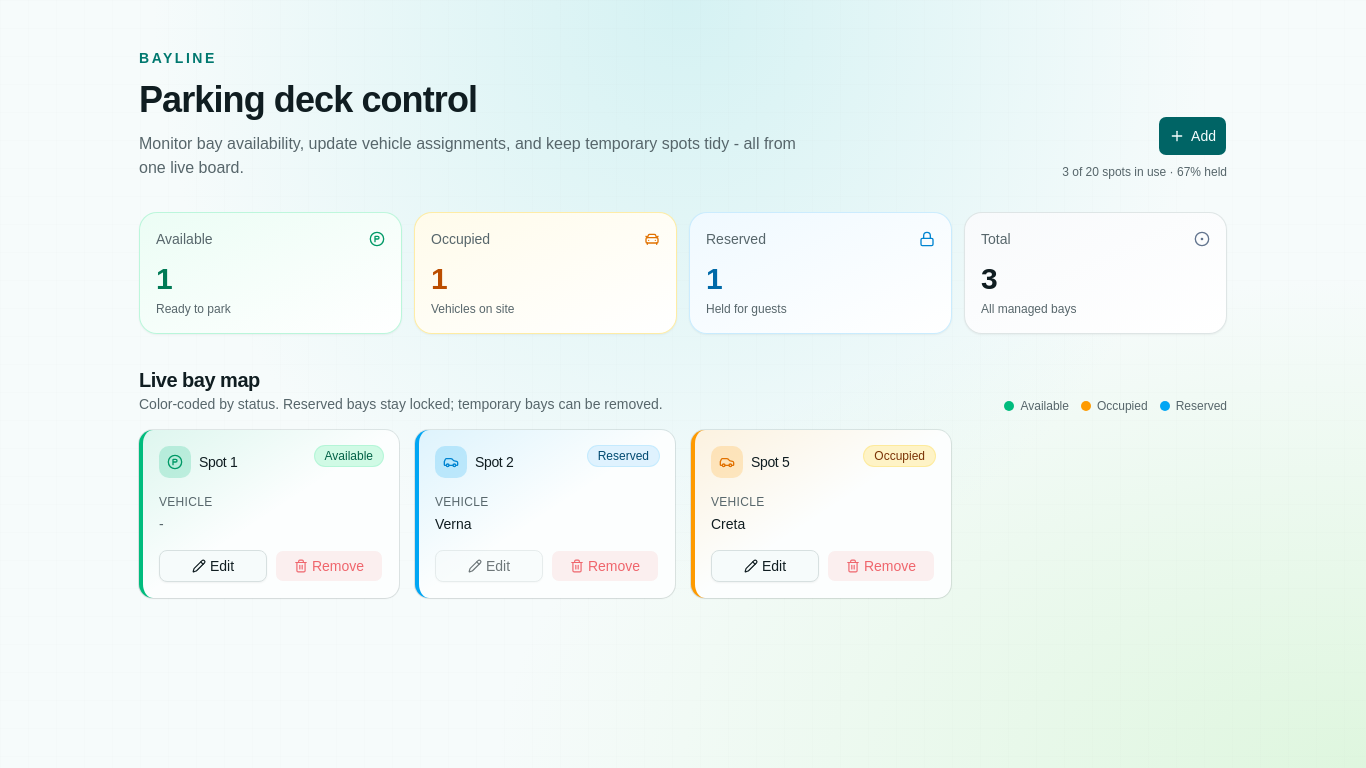
it: App › adds a temporary available spot
The image size is (1366, 768).
Click the button "Add".
click(1193, 136)  # box left=1158, top=116, right=1227, bottom=156
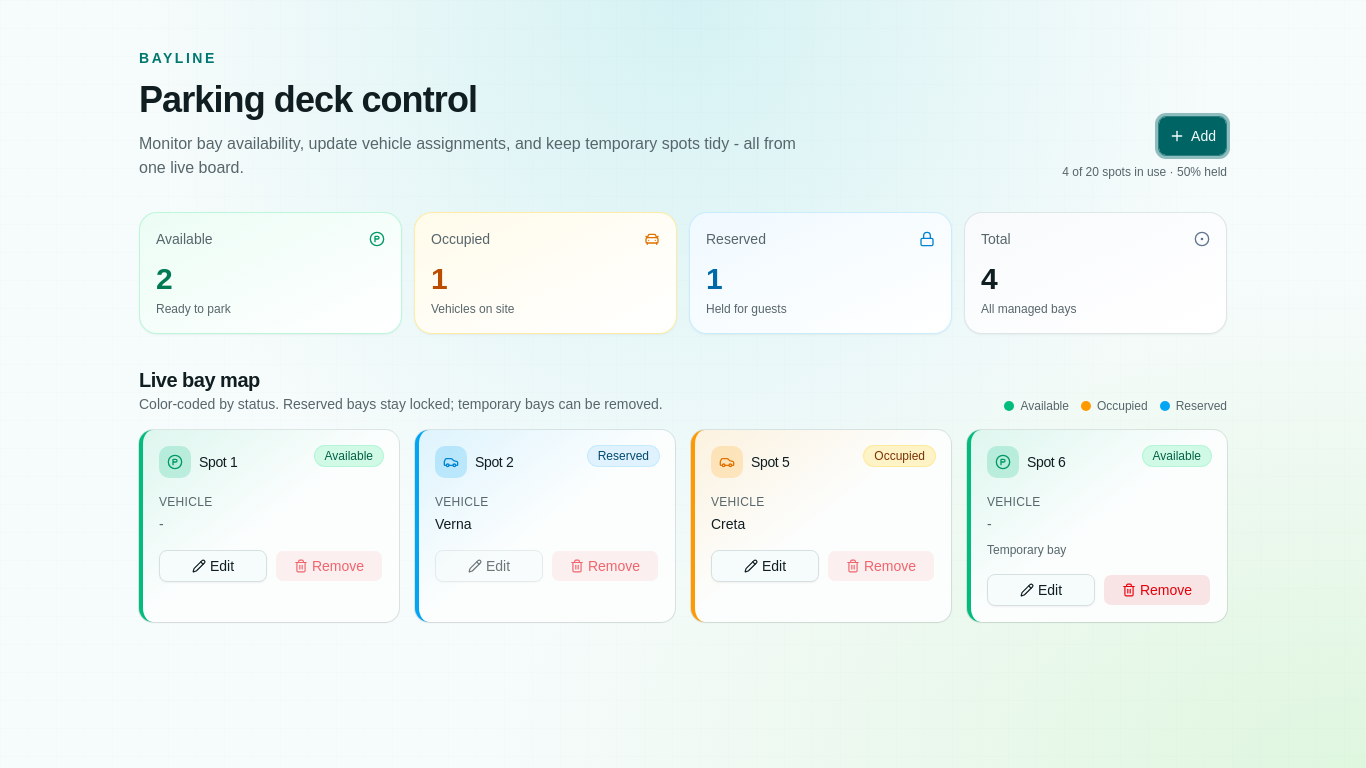
Expected: the text "Spot 6" is shown, left=1027, top=452, right=1065, bottom=472
